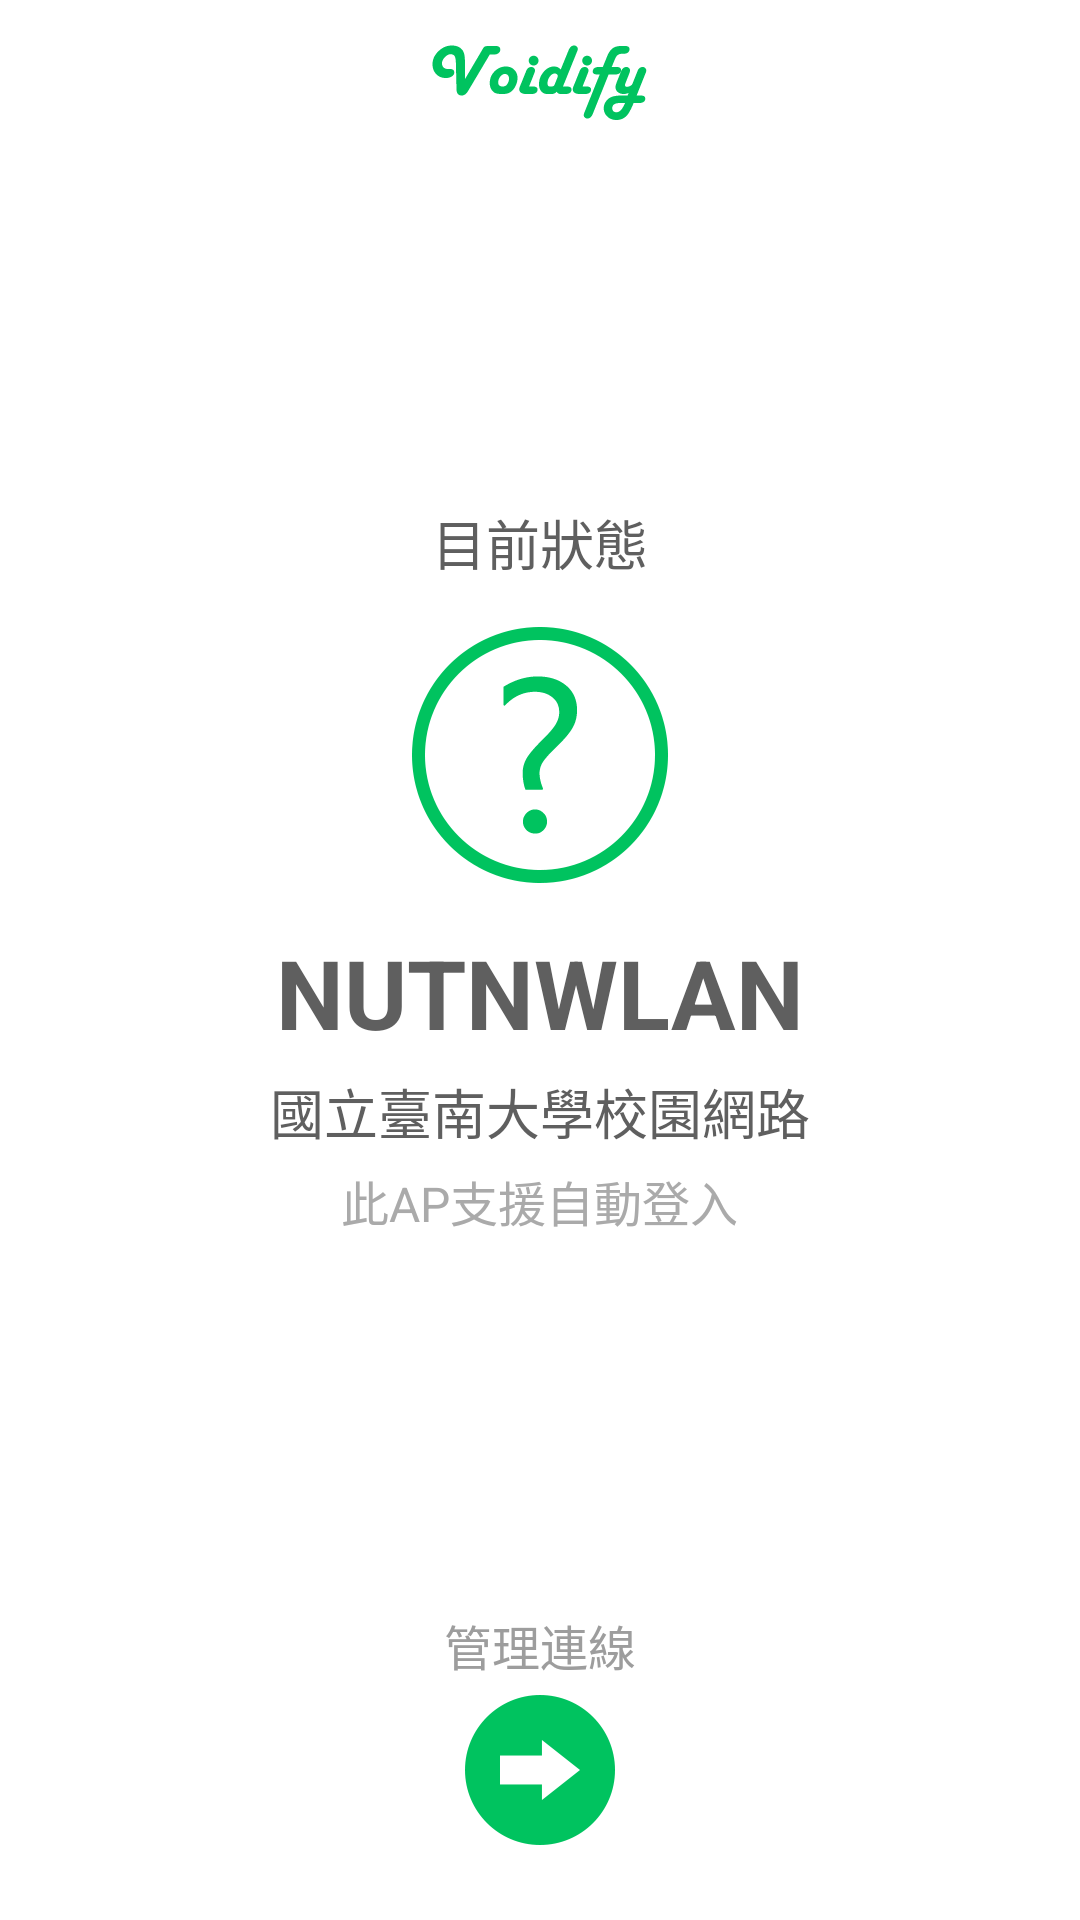

Icon click points for this 1080 × 1920 phone screenshot, format (x=x, y=y):
go control: (x=540, y=1770)
